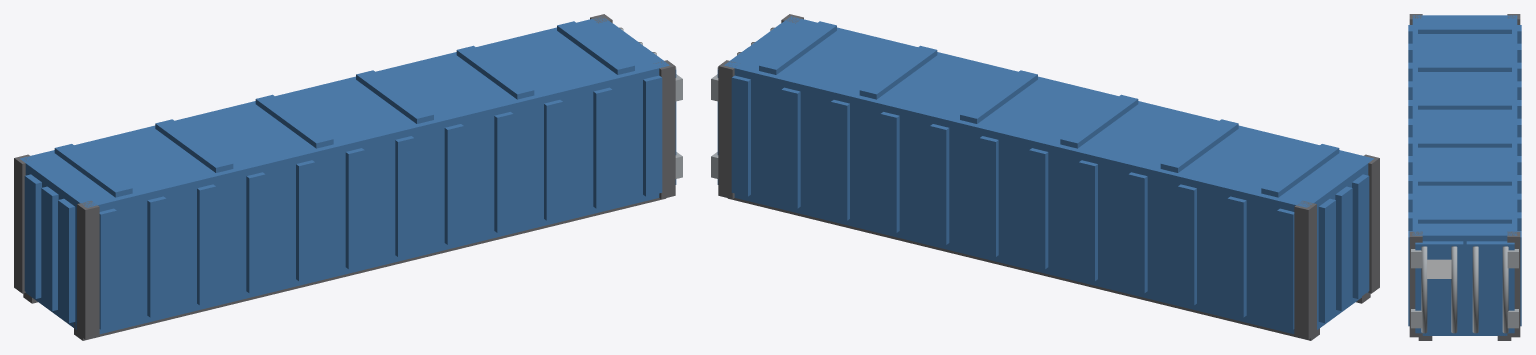
The model's file is container_blue.glb.
The picture shows the model from 3 angles, left to right: view 1: azimuth 30°, elevation 25°; view 2: azimuth 150°, elevation 25°; view 3: azimuth 270°, elevation 25°; orthographic projection. The views are drawn at different scales.
Visible parts, largest first — view 1: Merged_CityAccentBlue, Merged_RoofDark; view 2: Merged_CityAccentBlue, Merged_RoofDark; view 3: Merged_CityAccentBlue, Merged_PropsMetal, Merged_RoofDark, cont_data_plate.
Part boxes in pixels (<box>): Merged_CityAccentBlue: <box>20,16,676,334</box>; Merged_RoofDark: <box>14,14,675,340</box>; Merged_CityAccentBlue: <box>717,16,1373,334</box>; Merged_RoofDark: <box>718,14,1379,340</box>; Merged_CityAccentBlue: <box>1408,15,1521,335</box>; Merged_PropsMetal: <box>1411,246,1518,333</box>; Merged_RoofDark: <box>1409,14,1520,340</box>; cont_data_plate: <box>1427,259,1451,278</box>.
Bounding box in the file's own units: 12.59 × 2.82 × 2.65.
